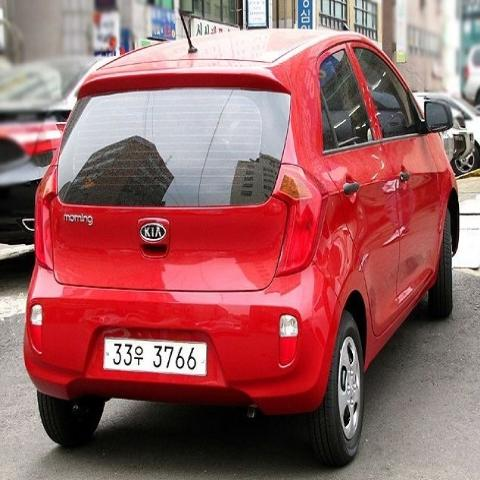LP: (98, 328, 218, 383)
